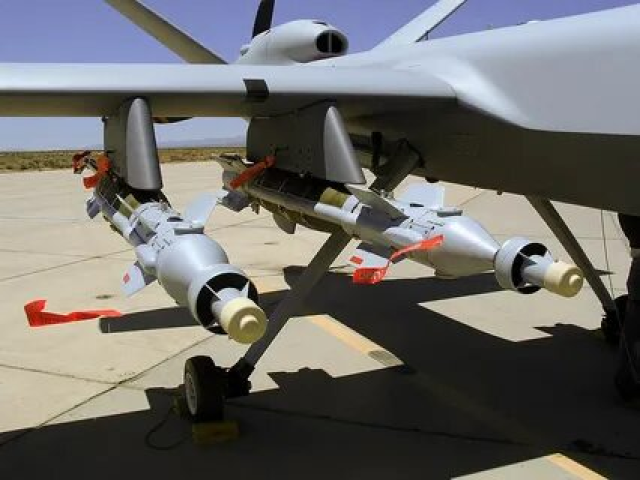military drone: (0, 0, 640, 422)
